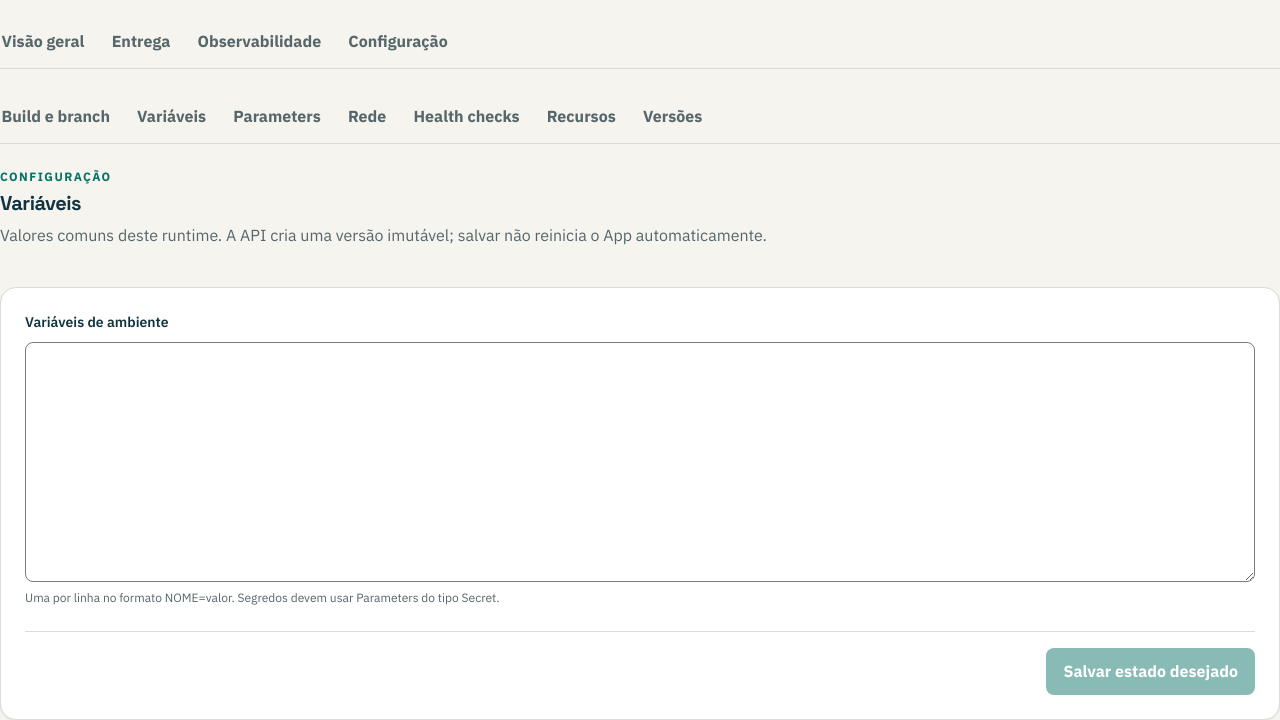
Scenario: Environment-first project experience › preserves local configuration edits after an optimistic concurrency conflict
The width and height of the screenshot is (1280, 720).
(page scrolled)
Type "LOG_LEVEL=debug" into the text box labelled "Variáveis de ambiente" at x=640, y=462, box [25, 342, 1255, 582]
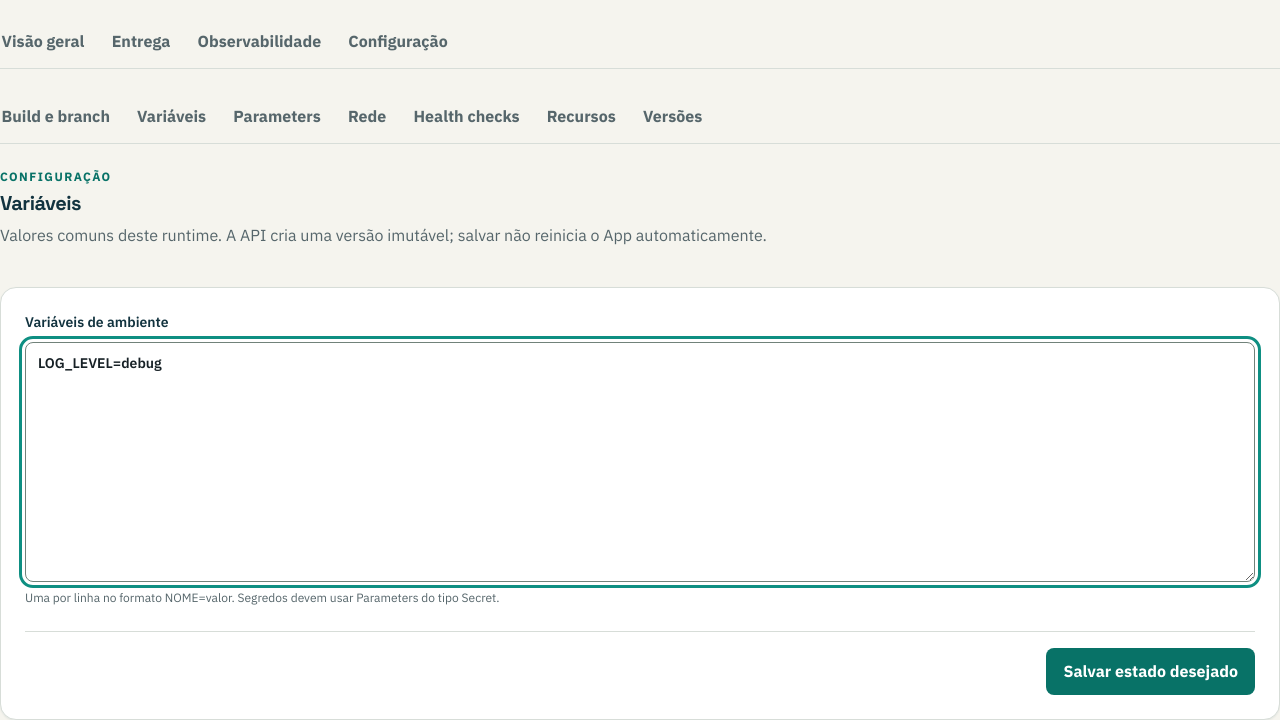
Click the button "Salvar estado desejado" at x=1151, y=671, box [1046, 648, 1255, 695]
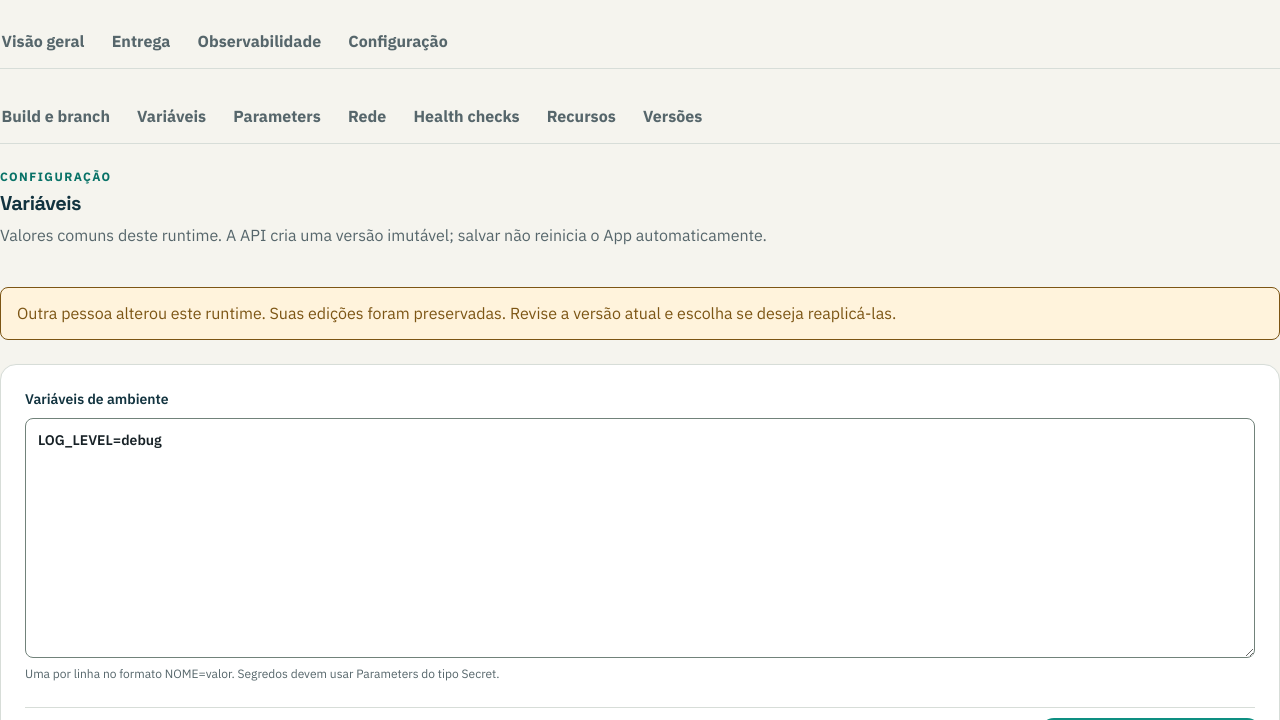
Expected: the text "Suas edições foram preservadas" is shown, [17, 303, 896, 323]
